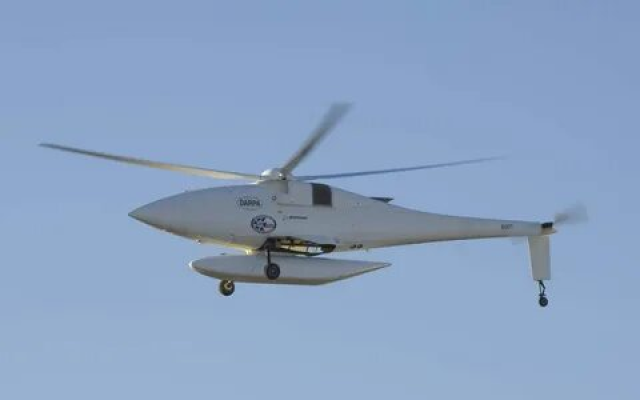military drone: (36, 102, 589, 307)
